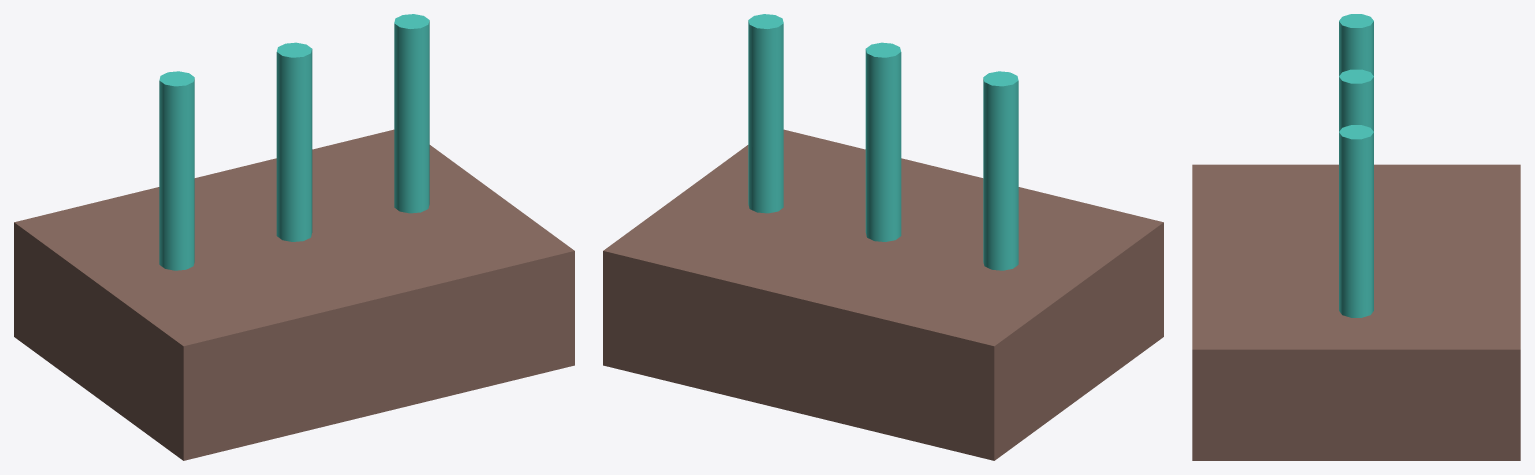
The model's file is substrate.glb.
The picture shows the model from 3 angles, left to right: view 1: azimuth 30°, elevation 25°; view 2: azimuth 150°, elevation 25°; view 3: azimuth 270°, elevation 25°; orthographic projection. The views are drawn at different scales.
Bounding box in the file's own units: 1 × 0.735 × 0.75.
